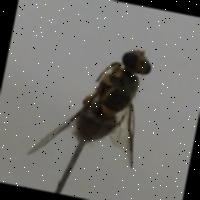Oriental-fruit-fly: (22, 27, 162, 184)
